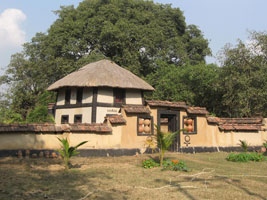Mud House: (39, 58, 160, 155)
